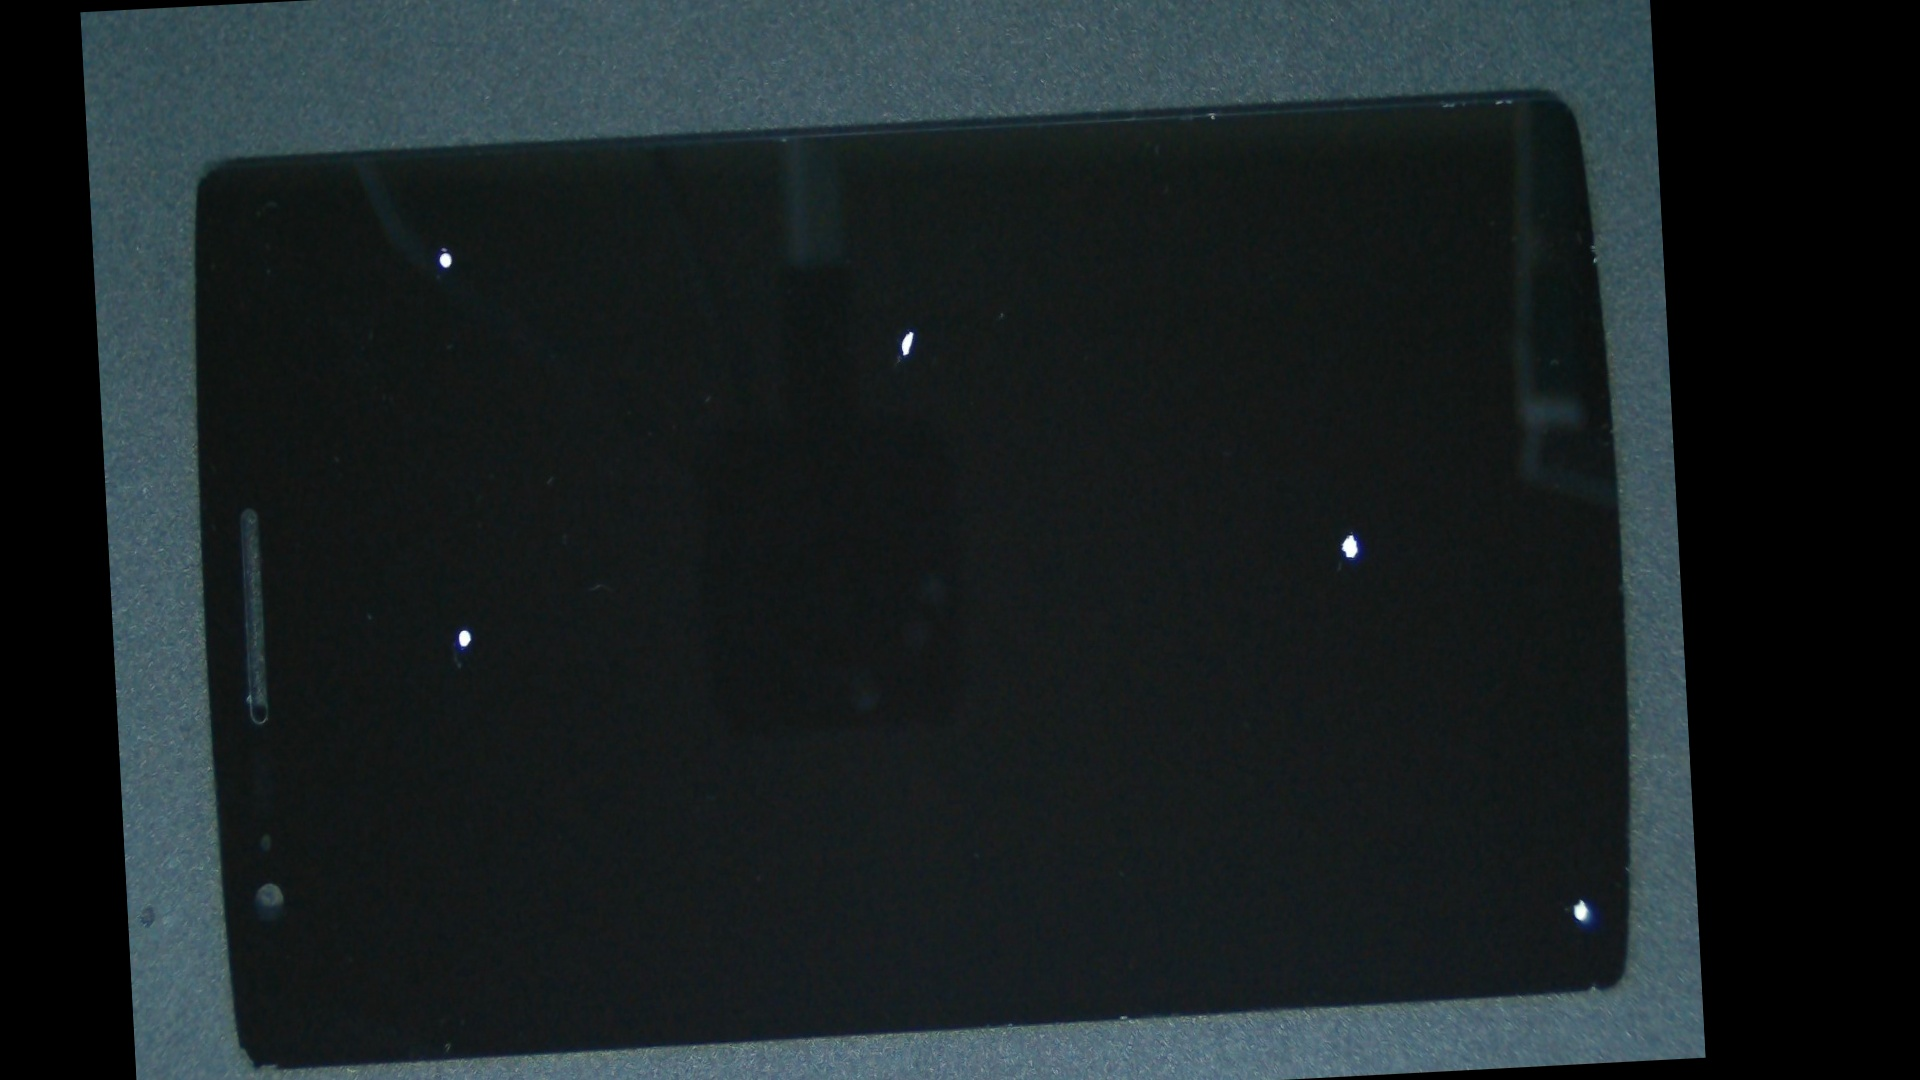oil: (719, 218, 1693, 864), (831, 409, 1705, 1080), (496, 128, 1323, 533), (273, 301, 650, 957), (264, 112, 628, 389)
